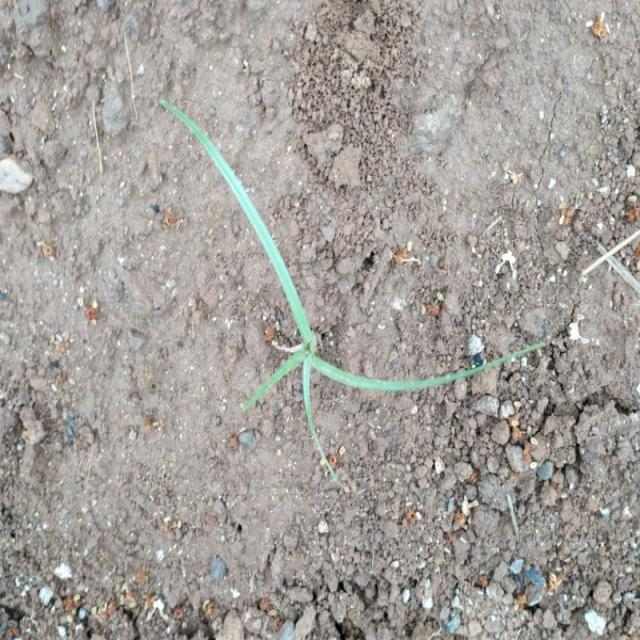sedge: (169, 111, 509, 446)
